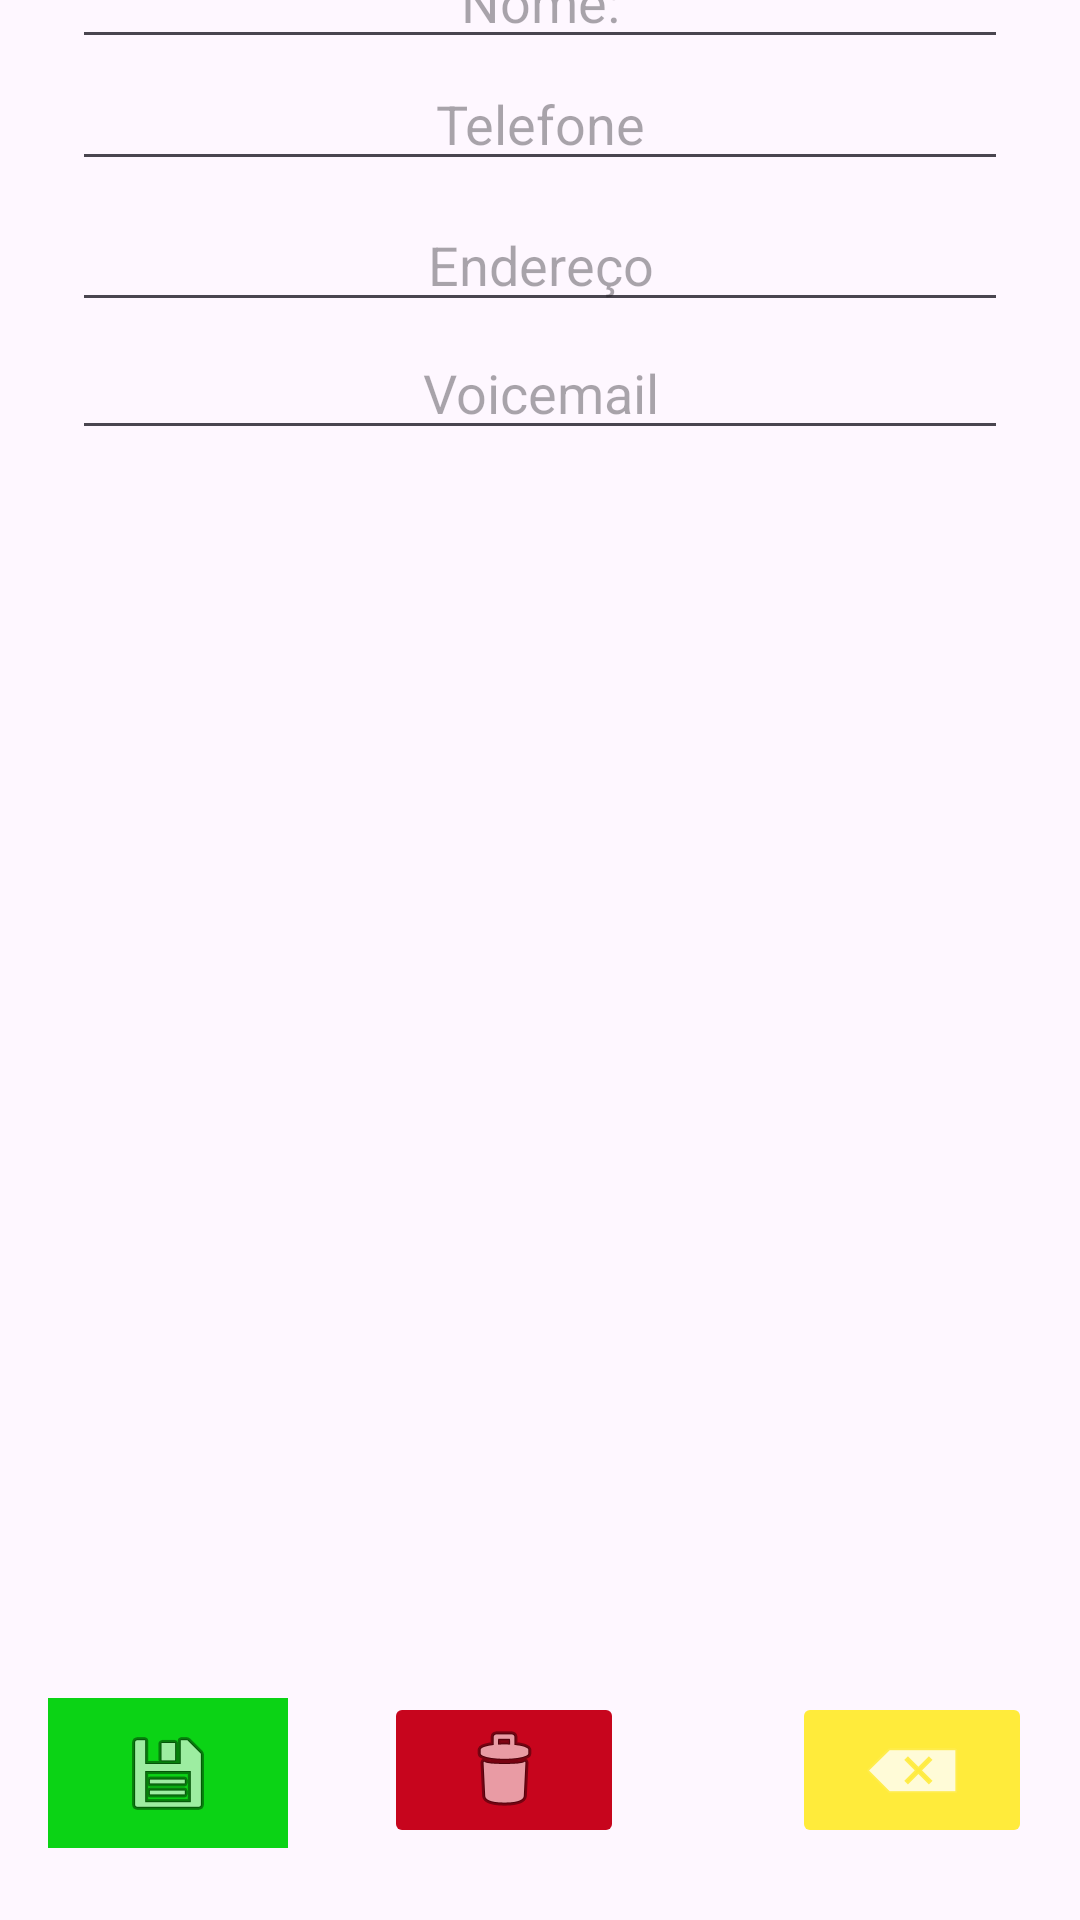

Named icons in this screenshot (1080×1920) and their bounding boxes, box=[x1, y1, x2, y2]:
delete: box=[396, 1710, 612, 1830], box=[804, 1710, 1020, 1830]
save: box=[48, 1698, 288, 1848]
